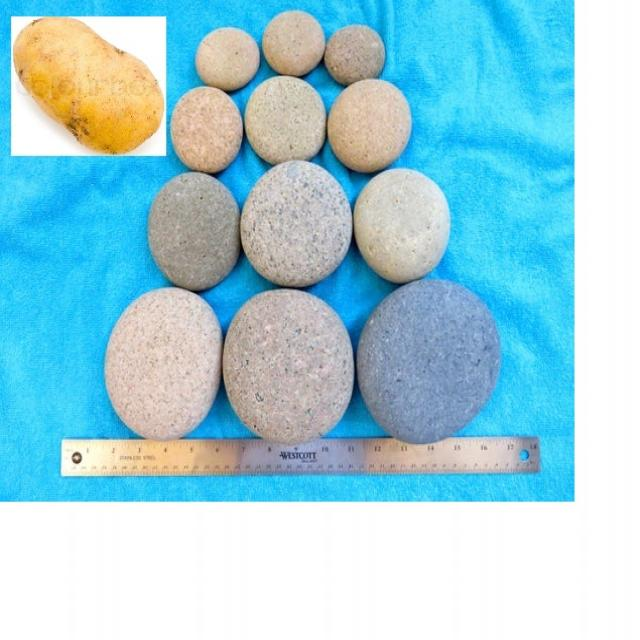potato: (13, 18, 164, 154)
